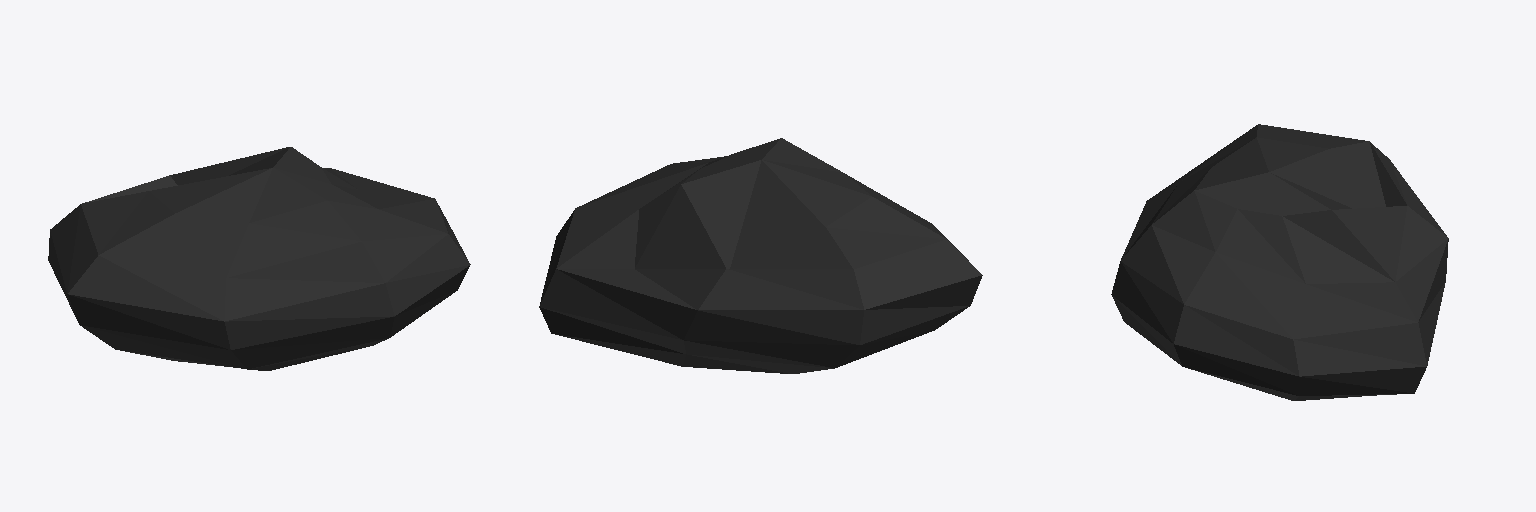
The model's file is Stone_dark.obj.
3 views of the same model, side by side, from view 1: azimuth 30°, elevation 25°; view 2: azimuth 150°, elevation 25°; view 3: azimuth 270°, elevation 25° (orthographic).
Visible parts, largest first — view 1: Sphere; view 2: Sphere; view 3: Sphere.
Part boxes in pixels (left/top/right/bottom): Sphere: left=48, top=147, right=470, bottom=370; Sphere: left=539, top=138, right=982, bottom=373; Sphere: left=1111, top=124, right=1448, bottom=400.
Bounding box in the file's own units: 2.67 × 1.13 × 1.94.